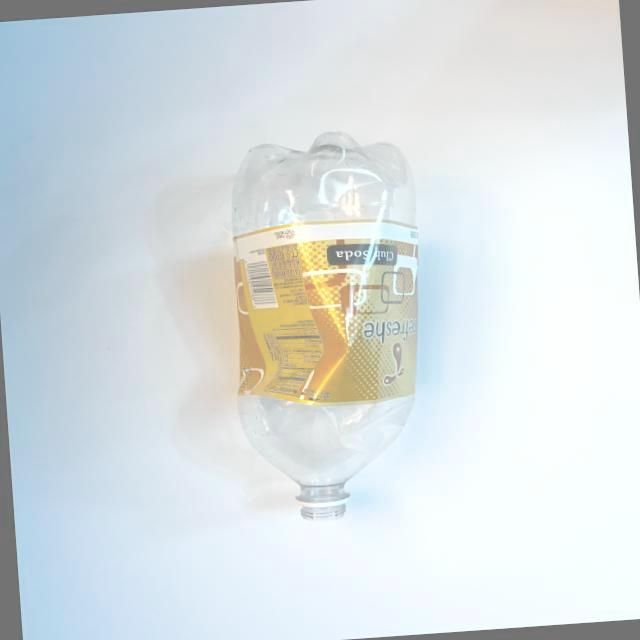plastic: (192, 90, 484, 534)
